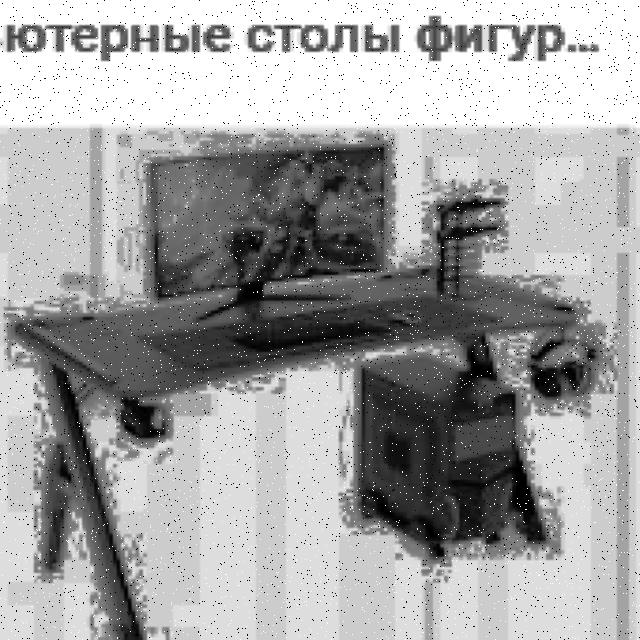table: (8, 262, 591, 640)
